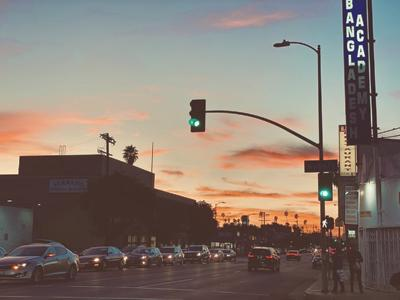International Road Signal Light: (189, 99, 205, 132), (318, 172, 333, 201)
